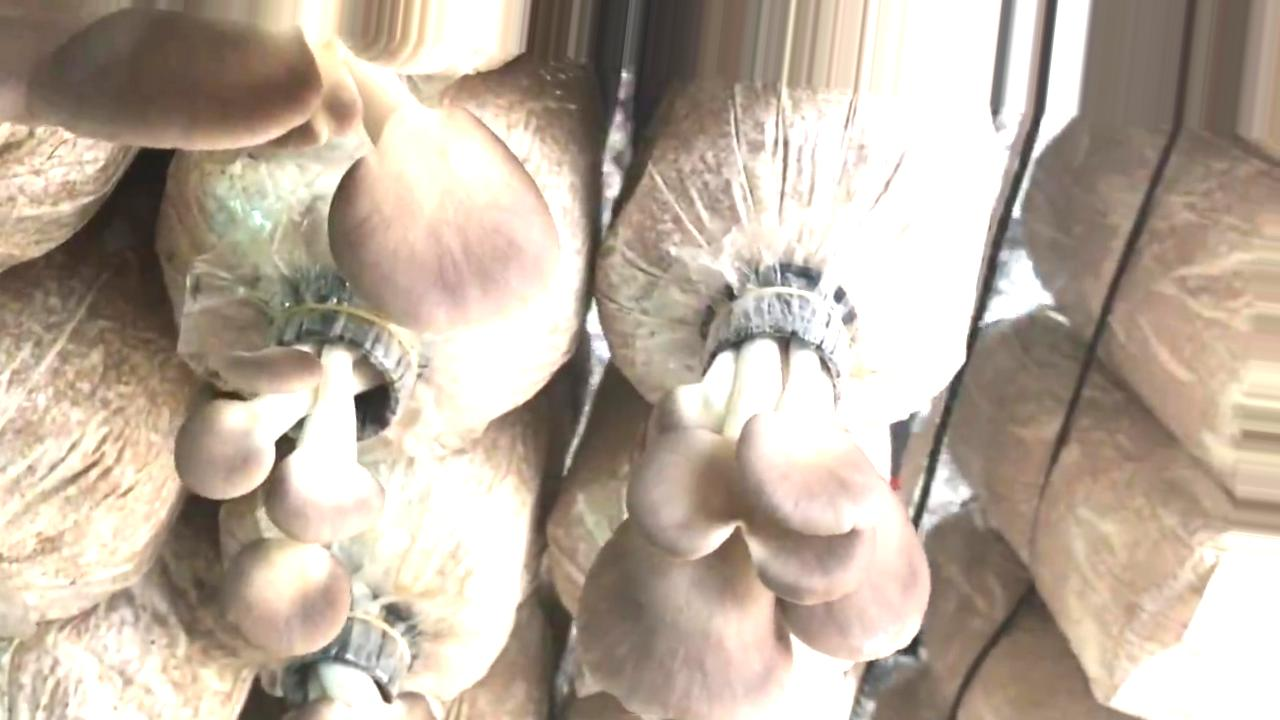nam: (1, 1, 560, 329), (580, 297, 928, 719), (177, 305, 434, 655)
